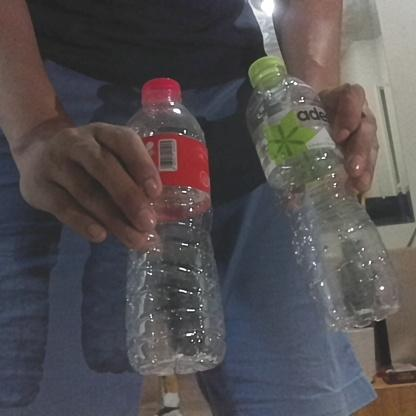plastic_bottles: (249, 54, 400, 334), (125, 76, 225, 378)
